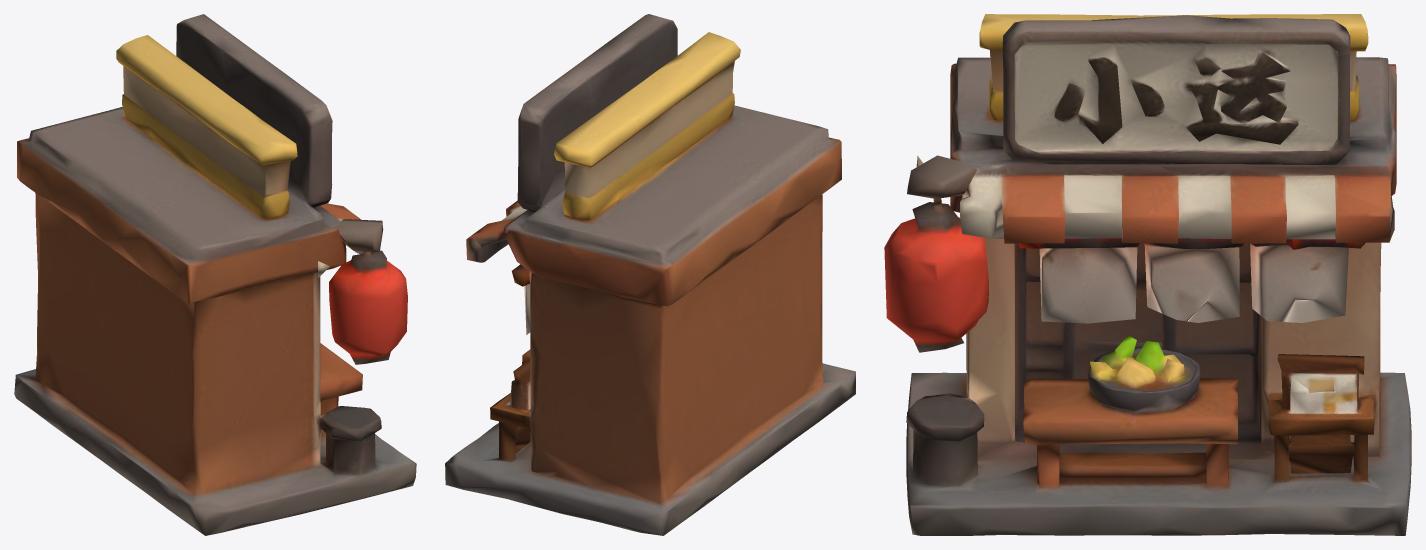
The model's file is ramen-shop.glb.
3 renders of one model, left to right at view 1: azimuth 30°, elevation 25°; view 2: azimuth 150°, elevation 25°; view 3: azimuth 270°, elevation 25°, orthographic. The views are drawn at different scales.
Visible parts, largest first — view 1: tripo_node_8add365a-22a0-43da-be60-0d985eed4e84; view 2: tripo_node_8add365a-22a0-43da-be60-0d985eed4e84; view 3: tripo_node_8add365a-22a0-43da-be60-0d985eed4e84.
Boxes of the visible parts, x1=… form: tripo_node_8add365a-22a0-43da-be60-0d985eed4e84: x1=14, y1=14, x2=416, y2=535; tripo_node_8add365a-22a0-43da-be60-0d985eed4e84: x1=445, y1=14, x2=855, y2=535; tripo_node_8add365a-22a0-43da-be60-0d985eed4e84: x1=884, y1=14, x2=1411, y2=535.
Size of the model in its own units: 0.6092 by 0.996 by 1.
Materials: 1 (1 with a texture image).
